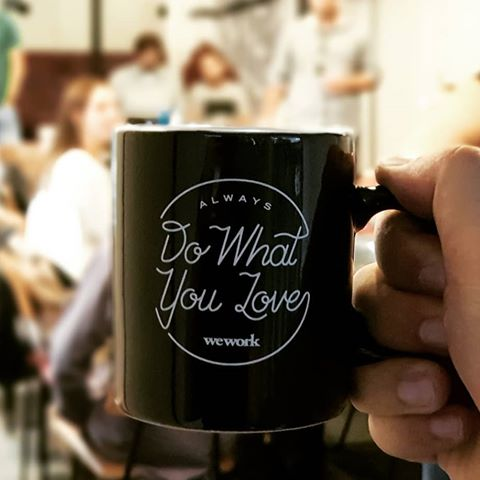wework: (202, 332, 263, 350)
